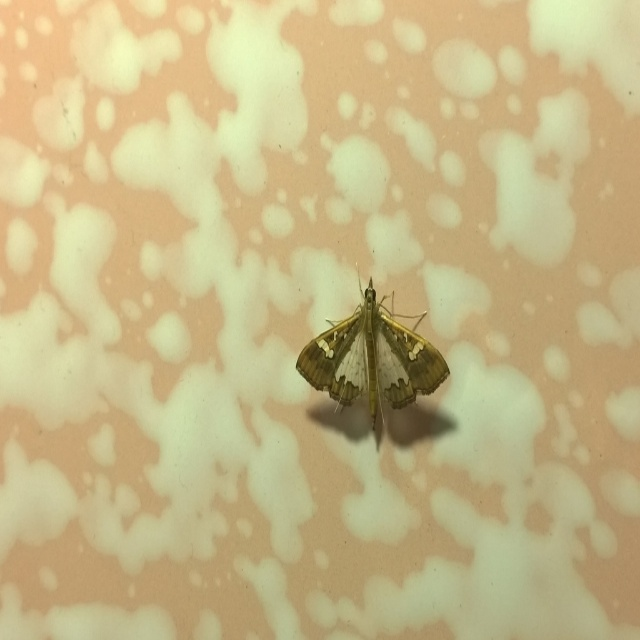Moths and butterflies: (297, 270, 450, 442)
